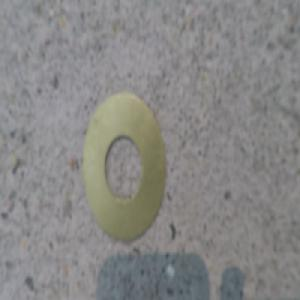Washer: (81, 93, 167, 240)
